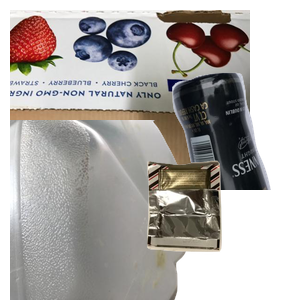cardboard: (10, 10, 250, 190)
glass: (106, 70, 300, 250)
plastic: (10, 120, 190, 300)
trash: (144, 158, 300, 300)
